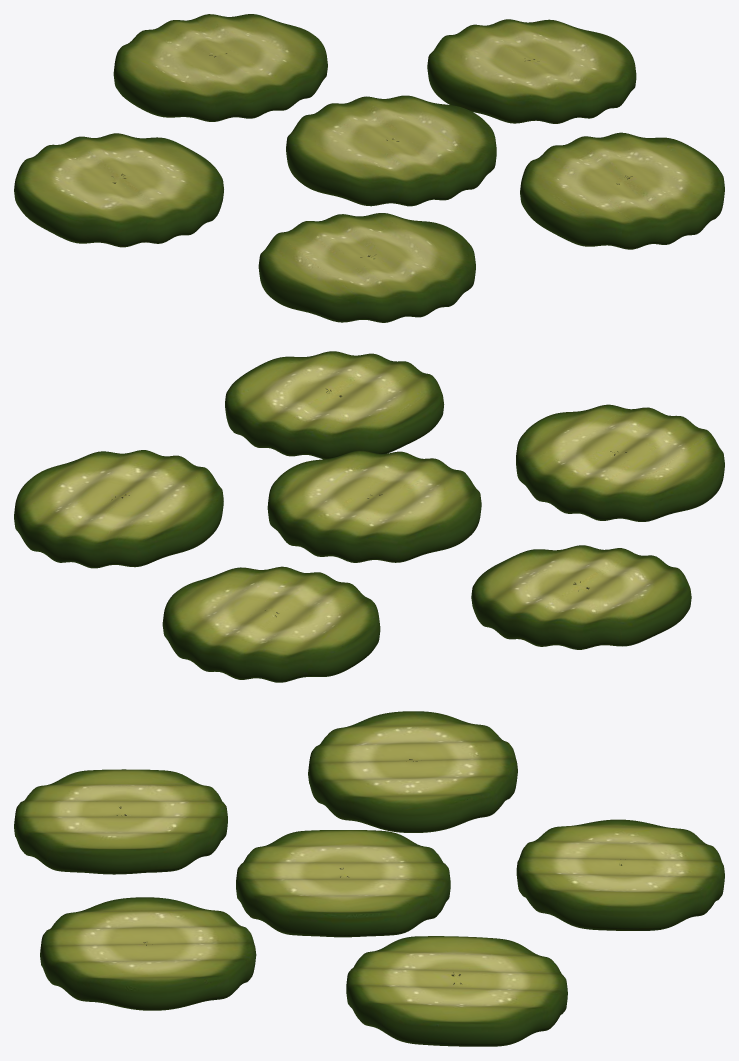
The model's file is pickle_slices.glb.
3 views of the same model, one above another, from view 1: azimuth 30°, elevation 25°; view 2: azimuth 150°, elevation 25°; view 3: azimuth 270°, elevation 25° (orthographic).
Parts seen in each view (by area): view 1: pickle_slices_web; view 2: pickle_slices_web; view 3: pickle_slices_web.
Boxes of the visible parts, x1=… form: pickle_slices_web: x1=14, y1=14, x2=724, y2=322; pickle_slices_web: x1=14, y1=351, x2=724, y2=682; pickle_slices_web: x1=14, y1=711, x2=724, y2=1046.
Bounding box in the file's own units: 0.0834 × 0.00522 × 0.0817.
1 material, 1 textured.
